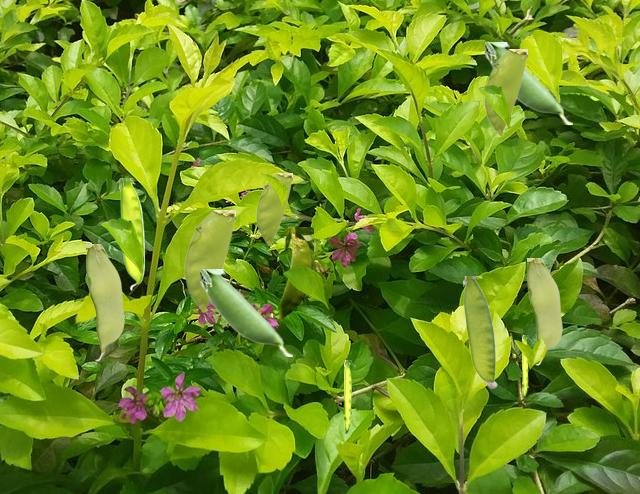pea: (200, 269, 291, 355), (485, 42, 571, 123), (184, 210, 234, 311), (86, 244, 123, 360), (463, 276, 496, 387), (484, 49, 526, 135), (527, 258, 561, 364), (273, 227, 312, 318), (119, 178, 143, 289), (256, 173, 291, 245), (344, 360, 354, 432), (522, 335, 530, 397)
